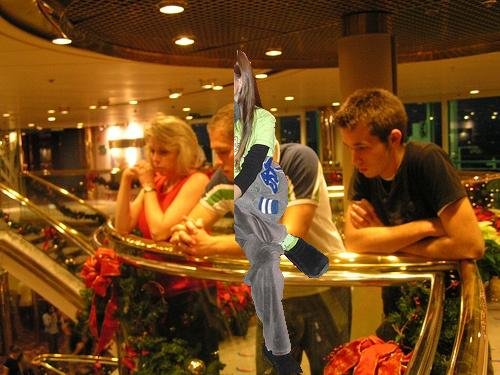tampered: (235, 51, 329, 373)
